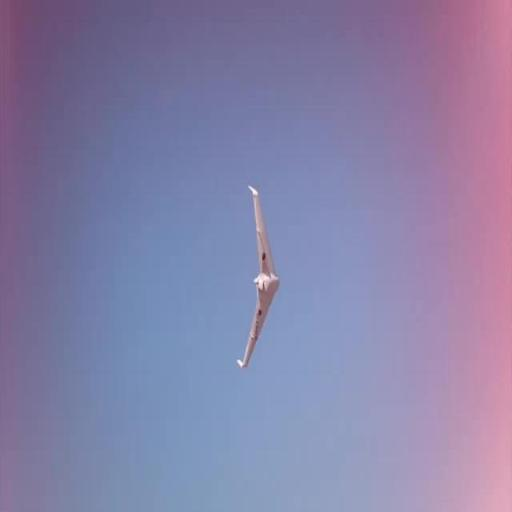uav: (235, 176, 282, 378)
